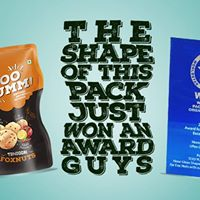plastic: (1, 43, 52, 169)
tooyumm: (1, 63, 34, 97)
wrapper: (2, 48, 55, 166)
